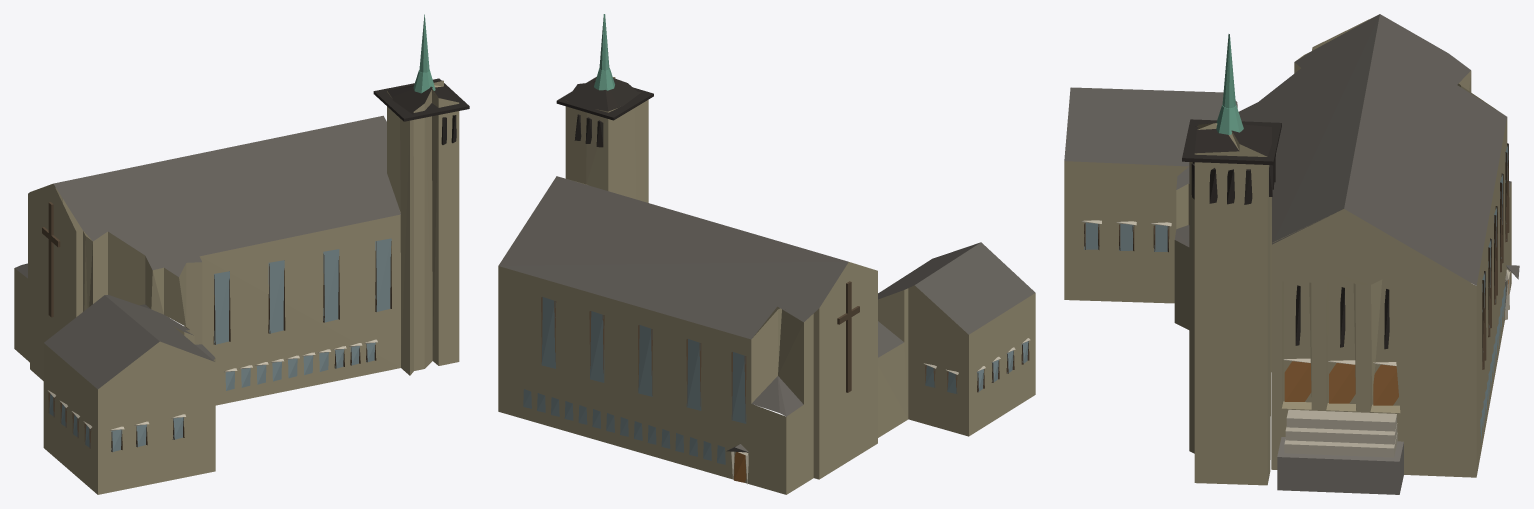
The model's file is maarten-lutherkerk.lod1.glb.
The picture shows the model from 3 angles, left to right: view 1: azimuth 30°, elevation 25°; view 2: azimuth 150°, elevation 25°; view 3: azimuth 270°, elevation 25°; orthographic projection. The views are drawn at different scales.
Parts seen in each view (by area): view 1: maarten-lutherkerk; view 2: maarten-lutherkerk; view 3: maarten-lutherkerk.
Part boxes in pixels (x1,y1,x2,y2): maarten-lutherkerk: [14, 14, 469, 494]; maarten-lutherkerk: [498, 14, 1035, 494]; maarten-lutherkerk: [1064, 14, 1519, 494].
Size of the model in its own units: 34.21 by 26.2 by 24.8.
